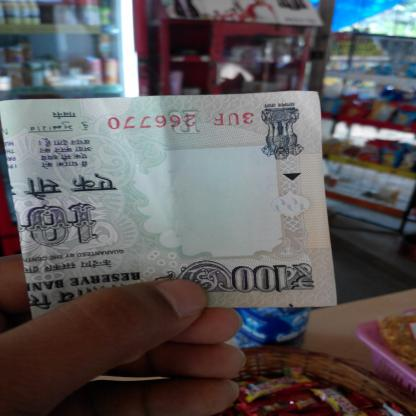Old100Front: (0, 90, 341, 321)
